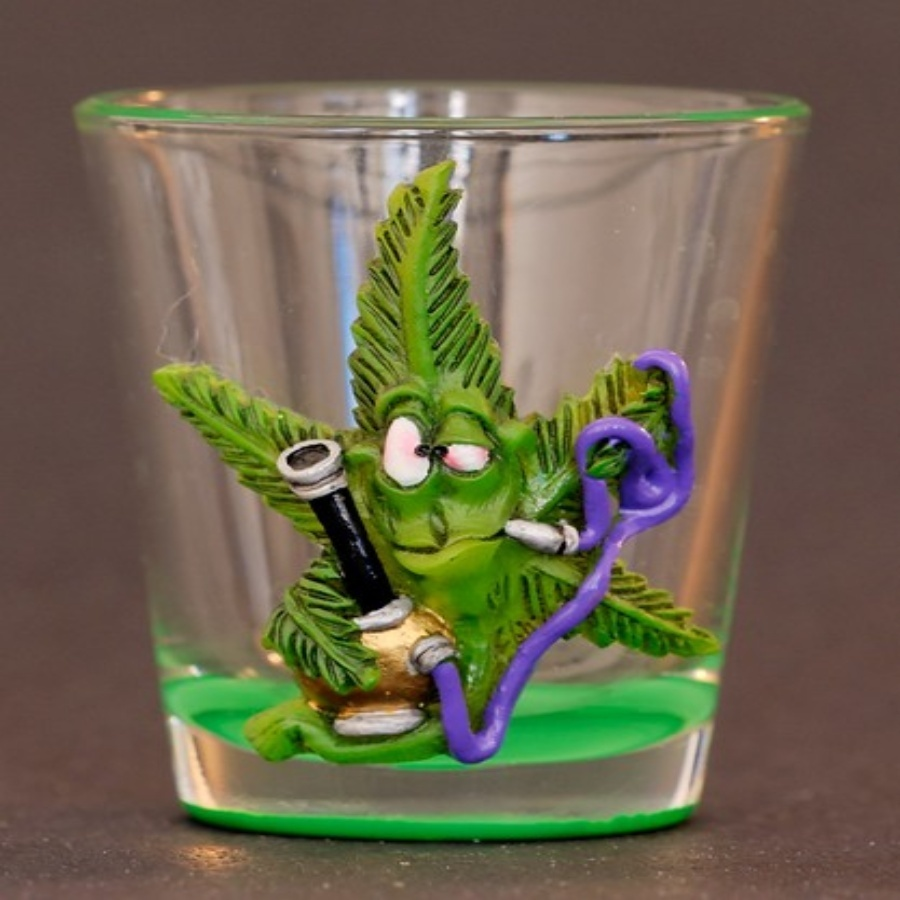whiskey: (131, 80, 793, 846)
